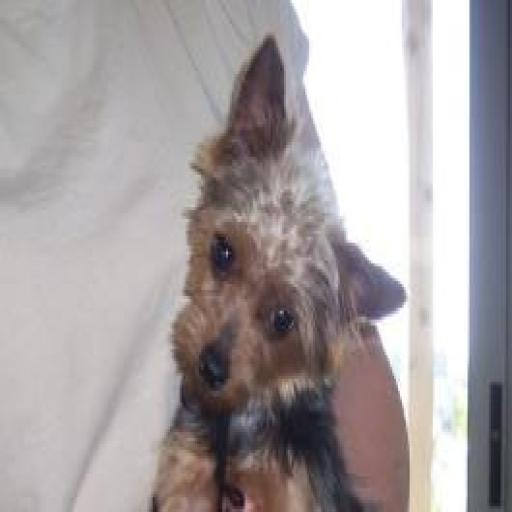dog_face: (173, 40, 412, 401)
